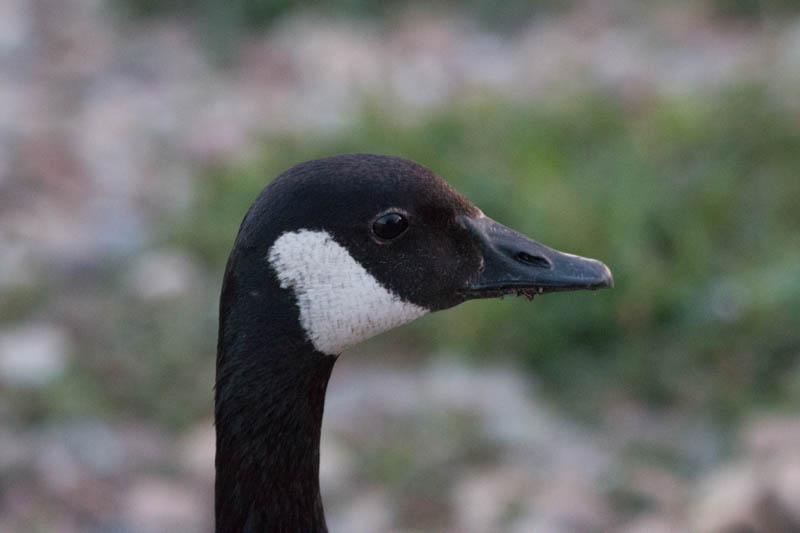goose-head: (217, 154, 614, 357)
